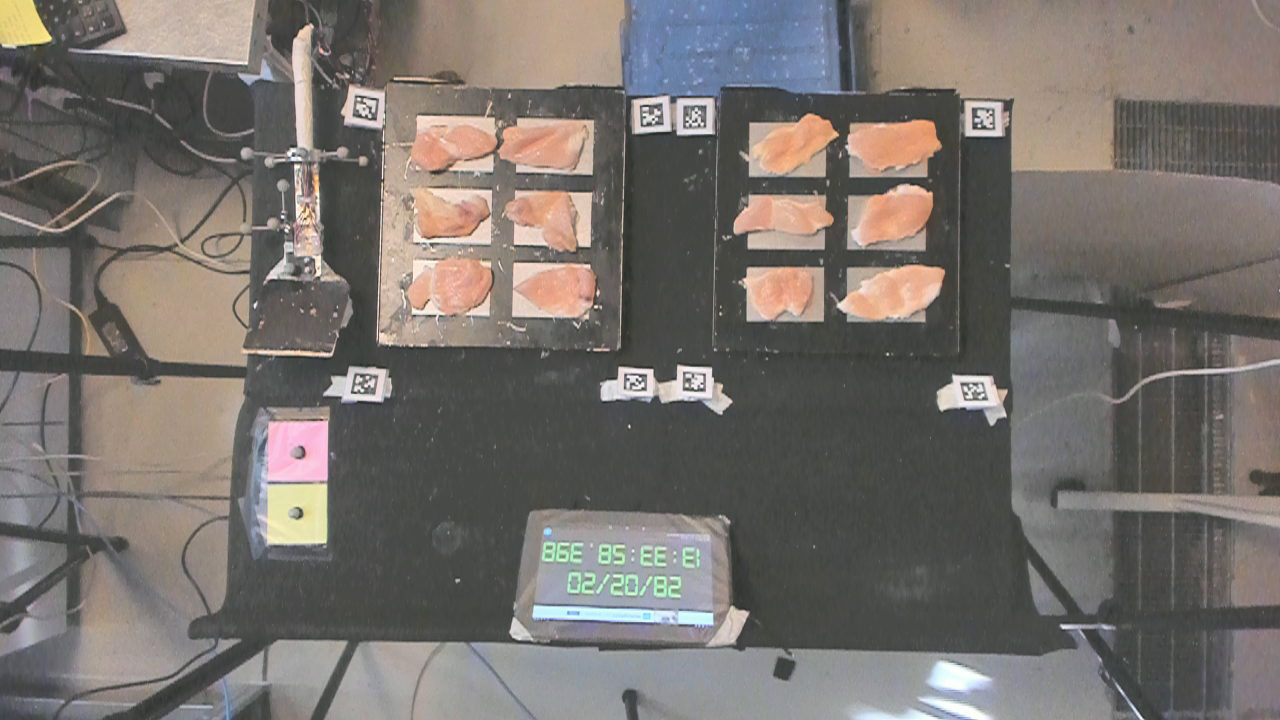chicken: (837, 263, 947, 323), (752, 106, 838, 177), (406, 115, 498, 171), (401, 258, 497, 310), (847, 119, 945, 169), (850, 186, 934, 244), (511, 267, 597, 322), (500, 192, 580, 251), (732, 193, 834, 237), (499, 126, 591, 171), (408, 188, 490, 237), (736, 271, 818, 314)
marker: (267, 423, 329, 482)
